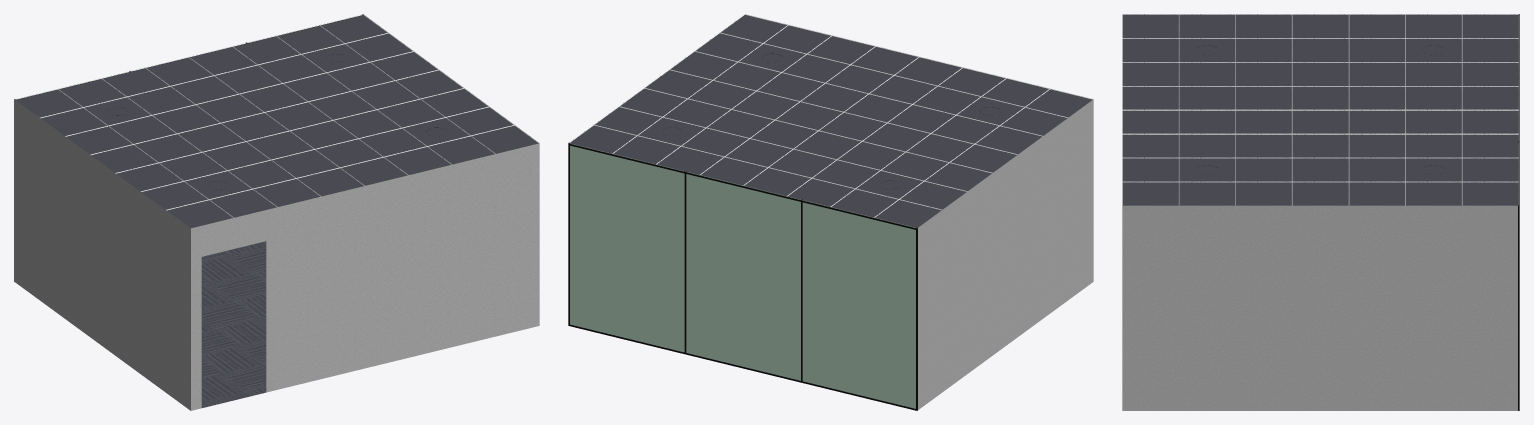
Rendered from InterviewRoom.fbx.
3 renders of one model, left to right at view 1: azimuth 30°, elevation 25°; view 2: azimuth 150°, elevation 25°; view 3: azimuth 270°, elevation 25°, orthographic. The views are drawn at different scales.
Visible parts, largest first — view 1: Walls, Ceiling, Floor, Metal; view 2: Plane, Ceiling, Walls, Metal; view 3: Walls, Ceiling, Metal.
Boxes of the visible parts, x1,y1,x2,y2 form: Walls: (15,100,539,410); Ceiling: (16,15,538,228); Floor: (201,241,266,407); Metal: (14,14,363,281); Plane: (569,143,916,408); Ceiling: (570,15,1092,227); Walls: (918,99,1093,409); Metal: (568,142,917,410); Walls: (1122,205,1517,410); Ceiling: (1122,14,1517,205); Metal: (1518,14,1519,410).
Size of the model in its own units: 16 by 8 by 14.03.
Materials: 8 (8 with a texture image).
